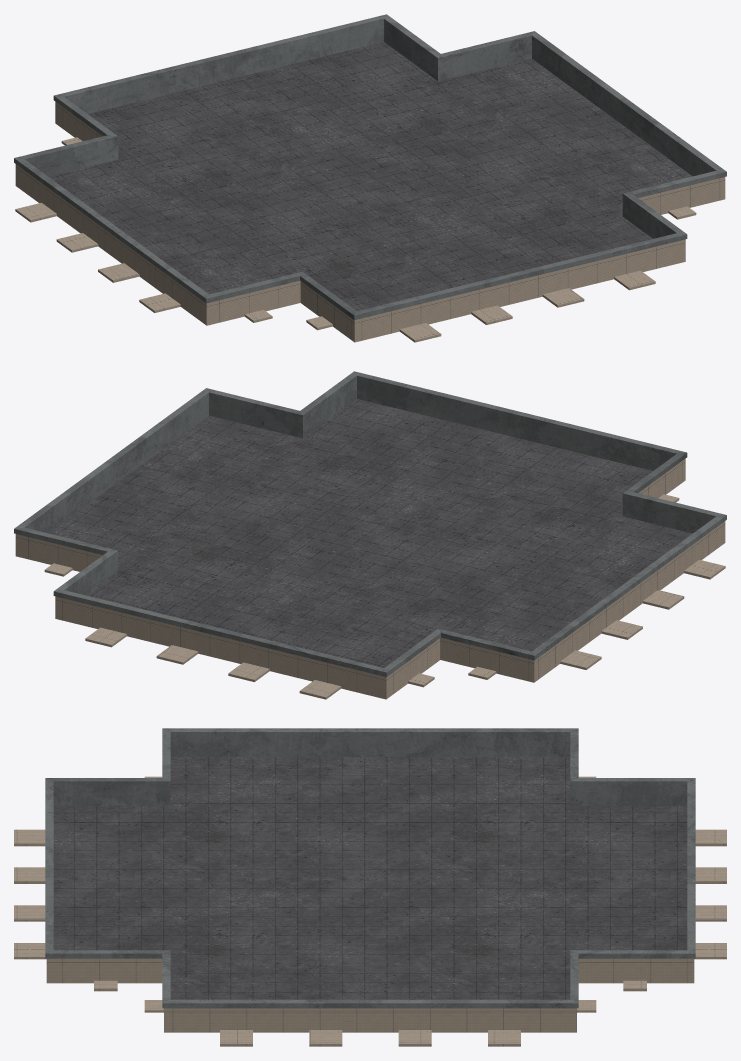
The model's file is jctBld24_B_mdlRoof.fbx.
3 renders of one model, top to bottom at view 1: azimuth 30°, elevation 25°; view 2: azimuth 150°, elevation 25°; view 3: azimuth 270°, elevation 25°, orthographic. The views are drawn at different scales.
Visible parts, largest first — view 1: jctBld24_B_mdlRoof; view 2: jctBld24_B_mdlRoof; view 3: jctBld24_B_mdlRoof.
Boxes of the visible parts, x1,y1,x2,y2 form: jctBld24_B_mdlRoof: (14,14,726,342); jctBld24_B_mdlRoof: (14,371,726,699); jctBld24_B_mdlRoof: (14,728,726,1046).
Bounding box in the file's own units: 2588 × 120 × 2588.
